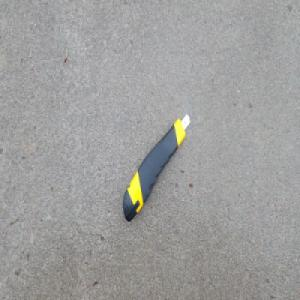Cutter: (122, 112, 191, 224)
